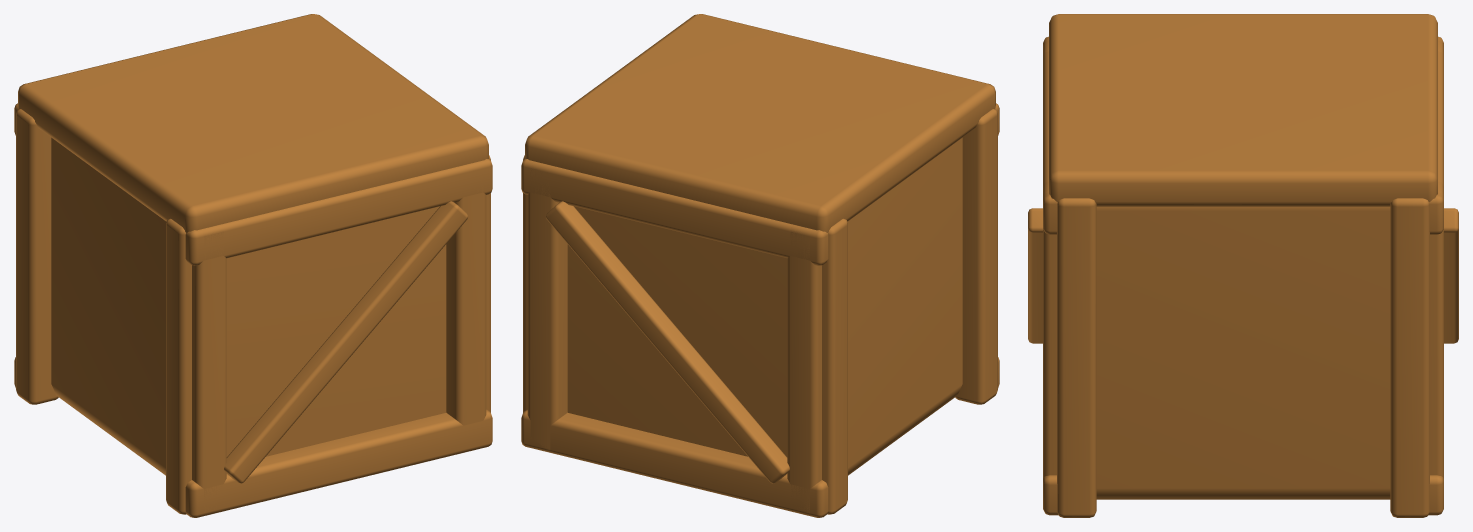
File: crate.glb
The picture shows the model from 3 angles, left to right: view 1: azimuth 30°, elevation 25°; view 2: azimuth 150°, elevation 25°; view 3: azimuth 270°, elevation 25°; orthographic projection. The views are drawn at different scales.
Parts seen in each view (by area): view 1: wood_mesh.002; view 2: wood_mesh.002; view 3: wood_mesh.002.
Boxes of the visible parts, x1=… form: wood_mesh.002: x1=14, y1=14, x2=492, y2=517; wood_mesh.002: x1=521, y1=14, x2=999, y2=517; wood_mesh.002: x1=1028, y1=14, x2=1458, y2=517.
Size of the model in its own units: 1.01 by 0.955 by 1.09.
